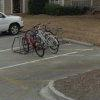Bicycle: (8, 19, 66, 61)
